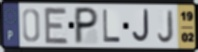0: (22, 7, 42, 44)
E: (43, 6, 70, 46)
J: (131, 8, 151, 45), (156, 9, 175, 44)
L: (102, 9, 122, 44)
P: (74, 6, 100, 45)
